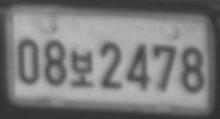0: (16, 37, 39, 85)
2: (99, 41, 122, 89)
4: (126, 43, 151, 89)
7: (153, 44, 177, 91)
8: (181, 46, 205, 93), (43, 38, 66, 86)
보: (70, 49, 94, 88)
